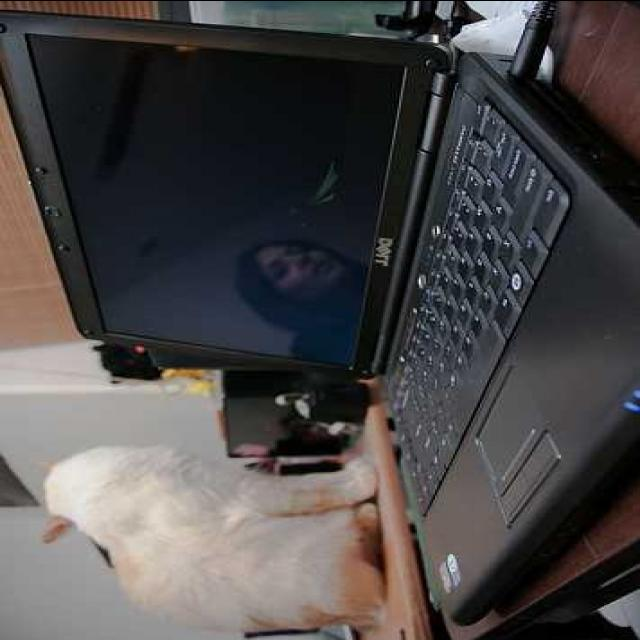laptop: (3, 0, 640, 622)
